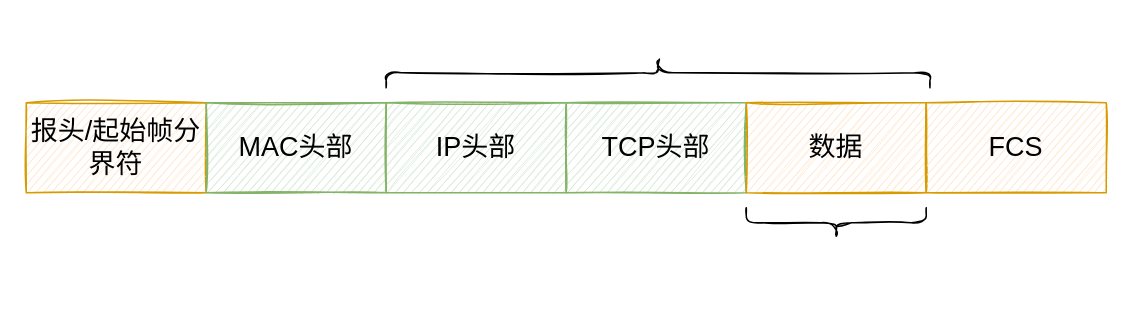
This 1133x309 diagram has some shape labels left out. Each missing label, with the centre of its shape:
"这部分最大长度为MSS" belongs at point (835, 222).
"这部分最大长度为MTU" belongs at point (657, 72).
